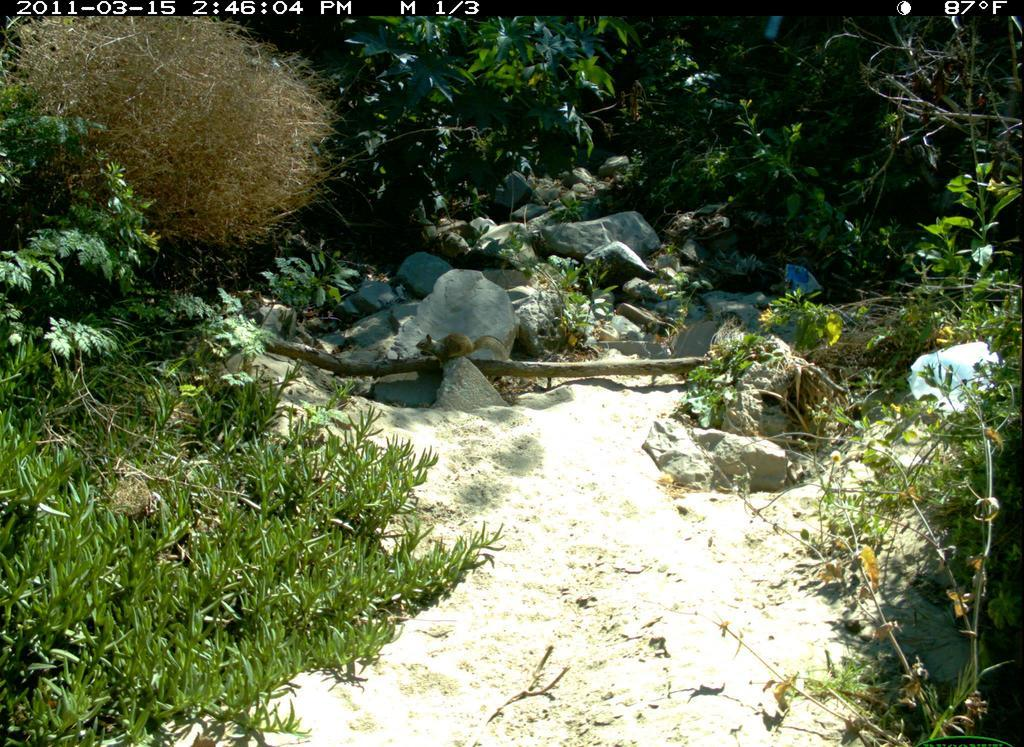squirrel: (413, 328, 514, 379)
